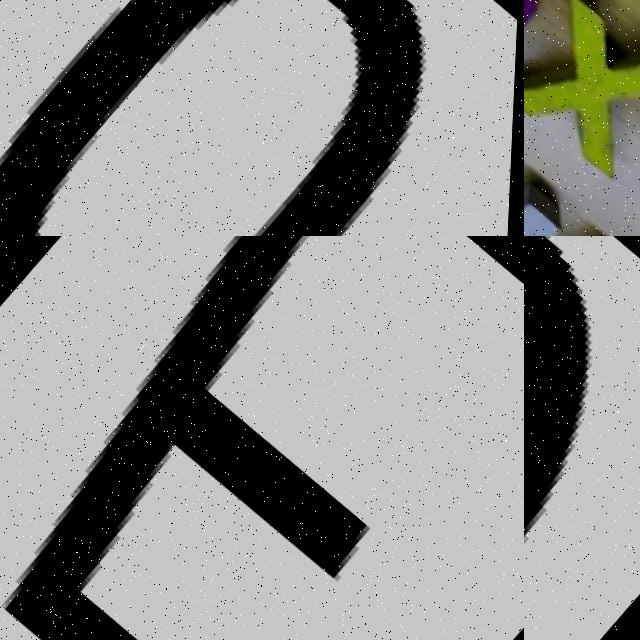0: (0, 0, 512, 236)
D: (524, 236, 640, 640)
F: (0, 236, 524, 640)
H: (524, 156, 640, 236)
X: (524, 0, 640, 196)
